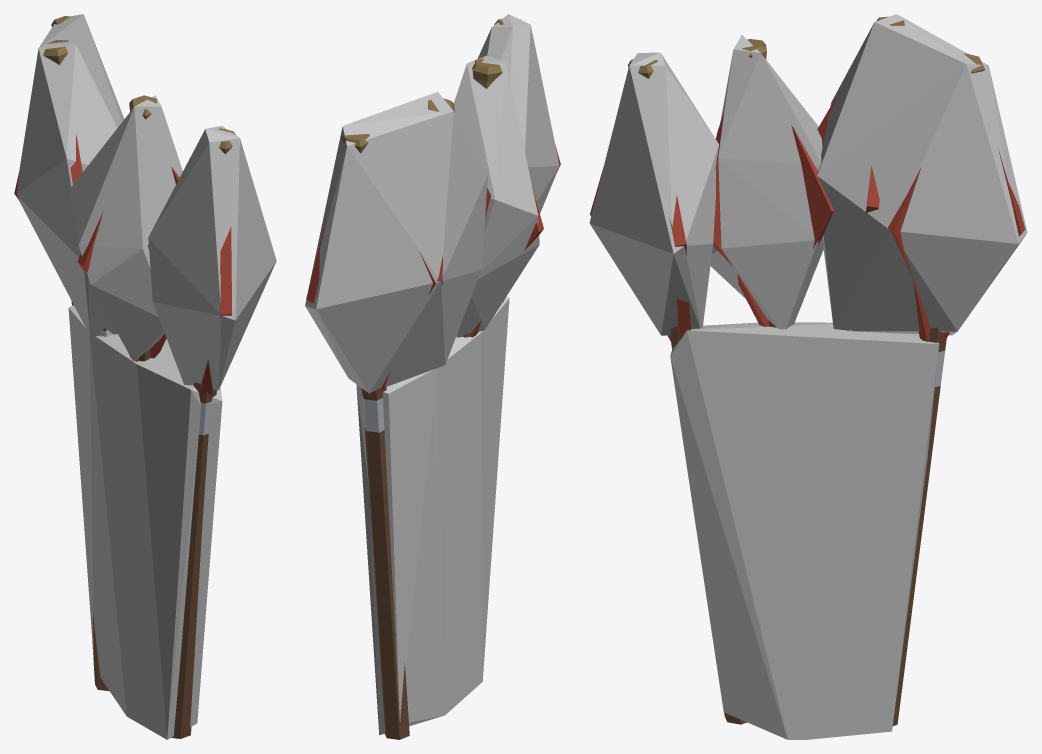
File: SM_Prop_Quiver_01_Arrows_01.fbx
The picture shows the model from 3 angles, left to right: view 1: azimuth 30°, elevation 25°; view 2: azimuth 150°, elevation 25°; view 3: azimuth 270°, elevation 25°; orthographic projection. The views are drawn at different scales.
Parts seen in each view (by area): view 1: SM_Prop_Quiver_01_Arrows_01_ConvexHulls, SM_Prop_Quiver_01_Arrows_01; view 2: SM_Prop_Quiver_01_Arrows_01_ConvexHulls, SM_Prop_Quiver_01_Arrows_01; view 3: SM_Prop_Quiver_01_Arrows_01_ConvexHulls, SM_Prop_Quiver_01_Arrows_01.
Part boxes in pixels (x1,y1,x2,y2): SM_Prop_Quiver_01_Arrows_01_ConvexHulls: [17, 14, 276, 739]; SM_Prop_Quiver_01_Arrows_01: [14, 16, 235, 738]; SM_Prop_Quiver_01_Arrows_01_ConvexHulls: [305, 14, 559, 735]; SM_Prop_Quiver_01_Arrows_01: [306, 19, 560, 739]; SM_Prop_Quiver_01_Arrows_01_ConvexHulls: [589, 14, 1027, 739]; SM_Prop_Quiver_01_Arrows_01: [590, 16, 1025, 725].
Size of the model in its own units: 13.64 by 32.1 by 55.31.
Materials: 2 (1 with a texture image).
